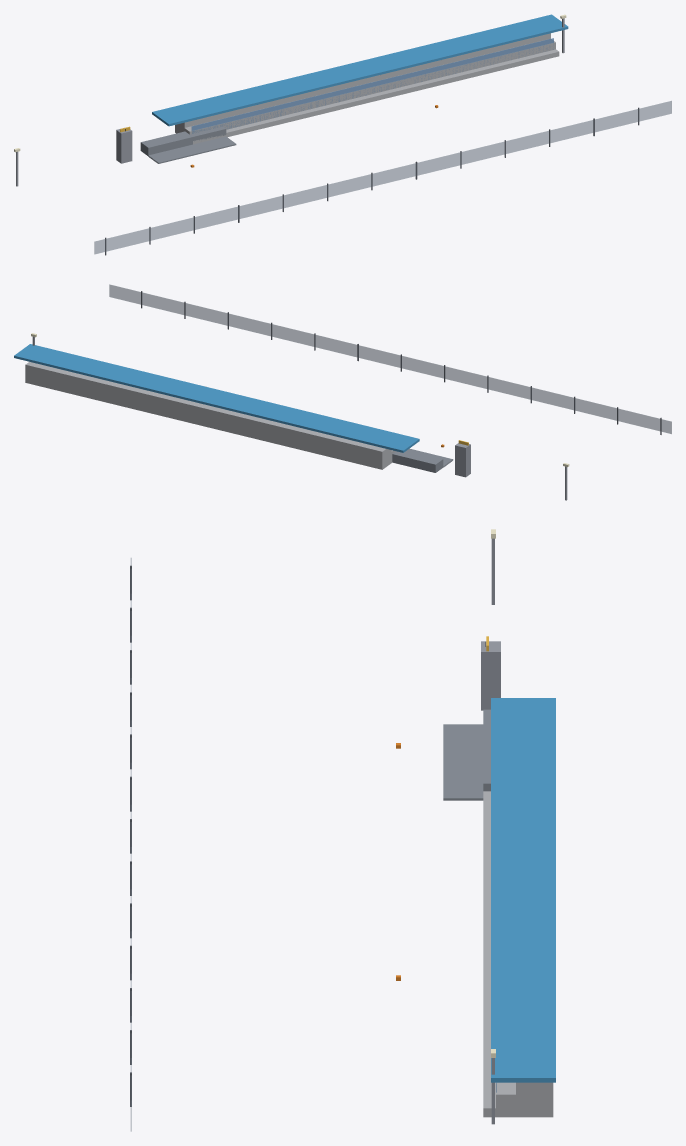
Rendered from venue_9.obj.
3 views of the same model, one above another, from view 1: azimuth 30°, elevation 25°; view 2: azimuth 150°, elevation 25°; view 3: azimuth 270°, elevation 25° (orthographic). The views are drawn at different scales.
Bounding box in the file's own units: 520 × 32 × 170.
